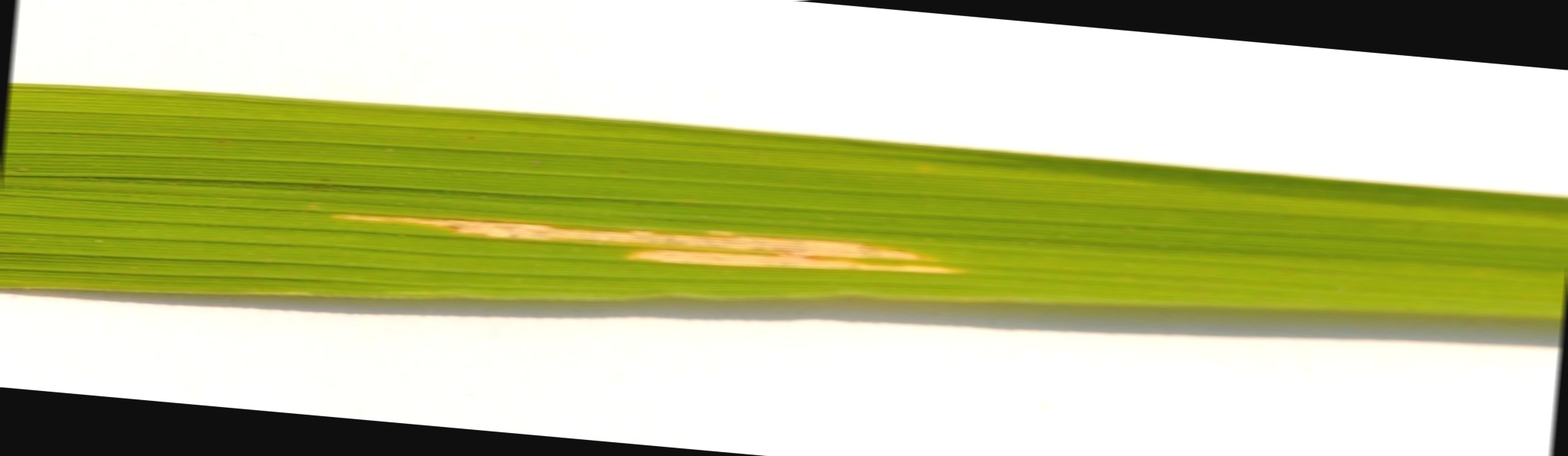Leaf_Blast: (272, 188, 984, 293)
